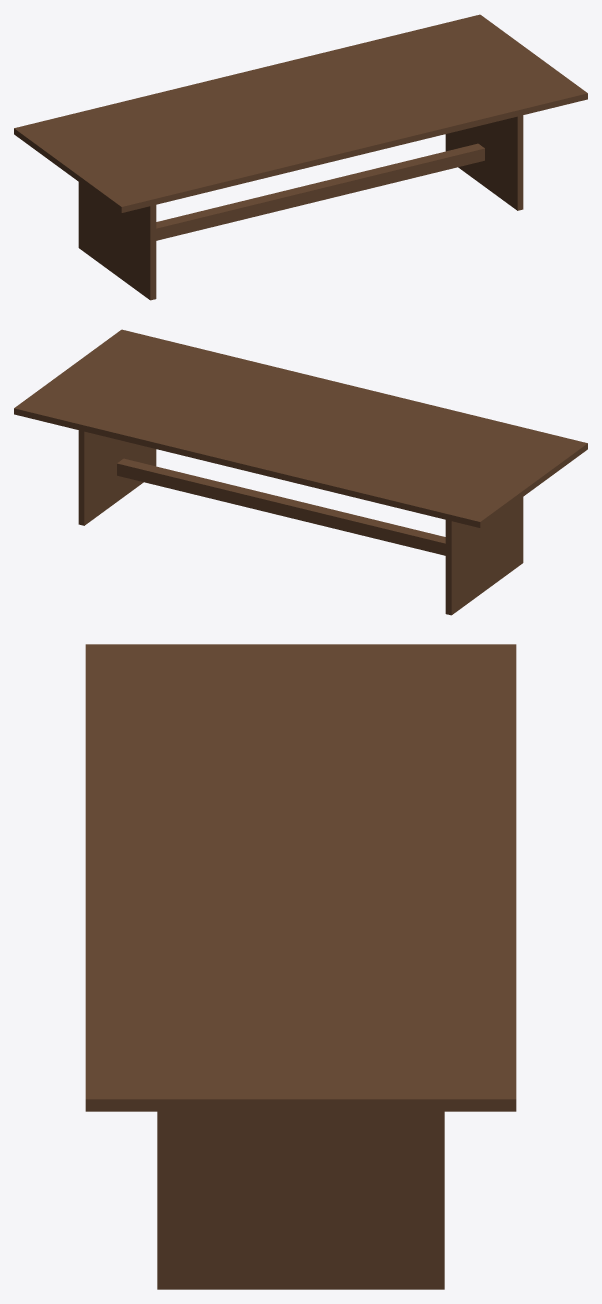
Rendered from demo-002-conference-table-10ft.glb.
The picture shows the model from 3 angles, top to bottom: view 1: azimuth 30°, elevation 25°; view 2: azimuth 150°, elevation 25°; view 3: azimuth 270°, elevation 25°; orthographic projection. The views are drawn at different scales.
Visible parts, largest first — view 1: Conference table 10ft; view 2: Conference table 10ft; view 3: Conference table 10ft.
Boxes of the visible parts, x1,y1,x2,y2 form: Conference table 10ft: (14, 14, 587, 300); Conference table 10ft: (14, 329, 587, 615); Conference table 10ft: (85, 644, 516, 1289).
Size of the model in its own units: 3.05 by 0.7366 by 1.22.
